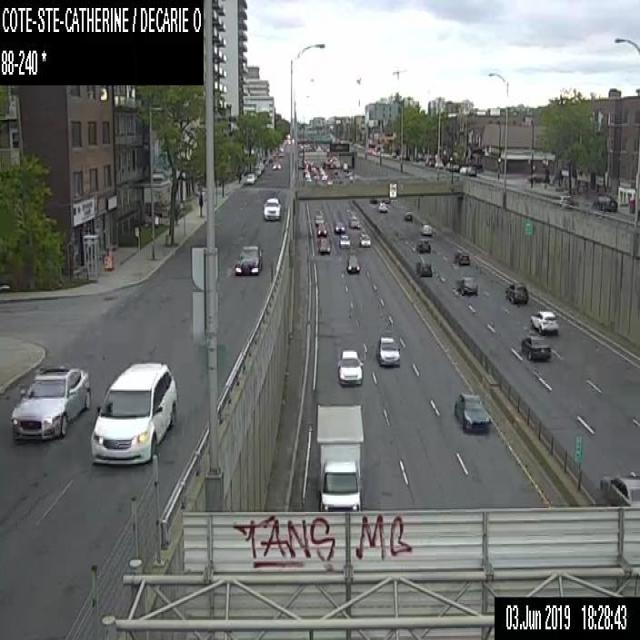vehicle: (89, 360, 176, 464), (9, 364, 91, 440), (314, 404, 362, 512), (453, 390, 489, 434), (599, 475, 639, 505), (233, 242, 262, 274), (337, 348, 362, 385), (520, 335, 551, 360), (376, 334, 400, 366), (530, 309, 557, 333), (504, 281, 528, 303), (457, 273, 478, 296), (592, 194, 617, 210), (263, 196, 280, 219), (416, 259, 432, 276), (346, 254, 359, 272), (416, 238, 430, 252), (454, 252, 469, 265), (527, 174, 550, 182), (358, 232, 371, 246), (318, 238, 330, 253), (338, 234, 350, 248), (316, 224, 327, 236), (333, 221, 344, 232), (348, 214, 357, 227), (421, 224, 431, 235), (558, 194, 570, 203), (466, 166, 476, 175), (314, 214, 323, 224), (377, 201, 386, 211), (246, 173, 254, 183), (272, 161, 281, 169), (404, 212, 412, 220), (452, 164, 459, 171), (459, 166, 465, 172)
